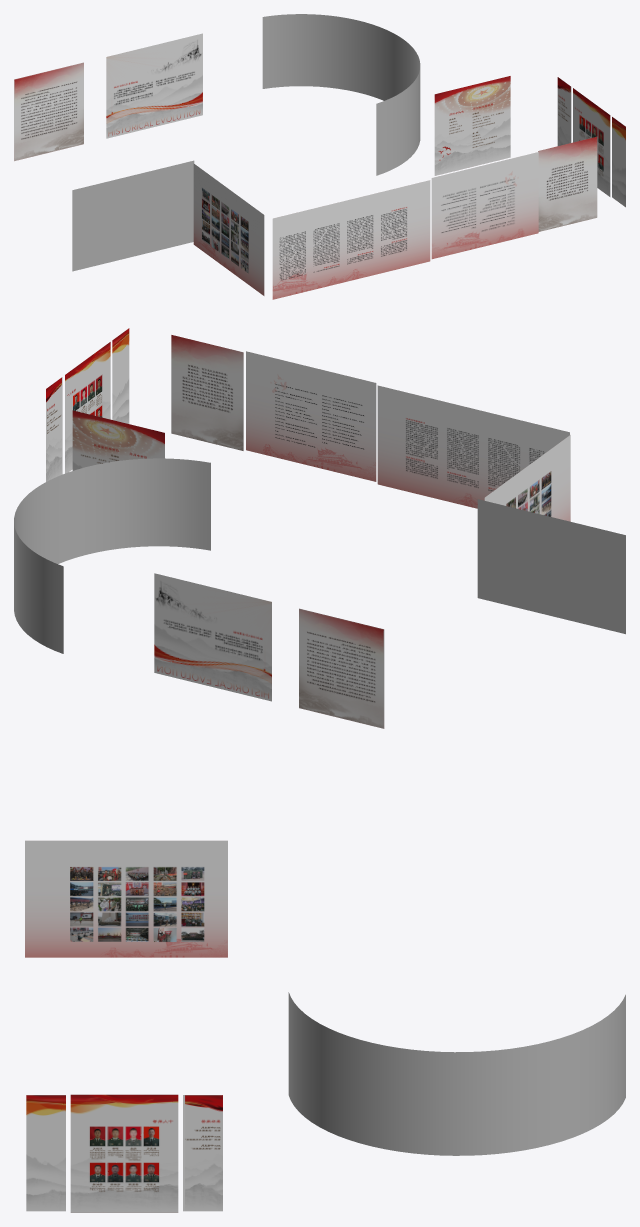
3 views of the same model, one above another, from view 1: azimuth 30°, elevation 25°; view 2: azimuth 150°, elevation 25°; view 3: azimuth 270°, elevation 25° (orthographic). The views are drawn at different scales.
Parts seen in each view (by area): view 1: 机动2中队_发展历程, 机动2中队_建设成就, 机动2中队_官兵风采, 机动2中队_重大任务, 机动2中队_历史沿革, 机动2中队_历任主官, 机动2中队_军营文化, 机动2中队_前言, 机动2中队_未来寄语, 机动2中队_历史荣誉中, 机动2中队_历史荣誉右, 机动2中队_历史荣誉左; view 2: 机动2中队_发展历程, 机动2中队_官兵风采, 机动2中队_建设成就, 机动2中队_重大任务, 机动2中队_历史沿革, 机动2中队_前言, 机动2中队_未来寄语, 机动2中队_军营文化, 机动2中队_历任主官, 机动2中队_历史荣誉中, 机动2中队_历史荣誉左, 机动2中队_历史荣誉右; view 3: 机动2中队_发展历程, 机动2中队_军营文化, 机动2中队_历史荣誉中, 机动2中队_历史荣誉右, 机动2中队_历史荣誉左.
Part boxes in pixels (box(x1,y1,x2,y2)): 机动2中队_发展历程: box(262, 14, 420, 175); 机动2中队_建设成就: box(272, 180, 430, 299); 机动2中队_官兵风采: box(72, 160, 194, 271); 机动2中队_重大任务: box(431, 152, 538, 259); 机动2中队_历史沿革: box(106, 33, 202, 138); 机动2中队_历任主官: box(434, 76, 510, 175); 机动2中队_军营文化: box(193, 163, 264, 295); 机动2中队_前言: box(14, 62, 83, 161); 机动2中队_未来寄语: box(538, 136, 597, 231); 机动2中队_历史荣誉中: box(573, 88, 610, 196); 机动2中队_历史荣誉右: box(612, 117, 625, 207); 机动2中队_历史荣誉左: box(557, 77, 571, 145); 机动2中队_发展历程: box(14, 458, 210, 653); 机动2中队_官兵风采: box(477, 499, 625, 634); 机动2中队_建设成就: box(377, 385, 569, 508); 机动2中队_重大任务: box(246, 351, 376, 481); 机动2中队_历史沿革: box(154, 573, 271, 701); 机动2中队_前言: box(299, 608, 384, 728); 机动2中队_未来寄语: box(171, 335, 243, 450); 机动2中队_军营文化: box(484, 435, 570, 521); 机动2中队_历任主官: box(72, 410, 164, 470); 机动2中队_历史荣誉中: box(65, 342, 110, 473); 机动2中队_历史荣誉左: box(46, 377, 62, 481); 机动2中队_历史荣誉右: box(112, 328, 129, 423); 机动2中队_发展历程: box(288, 992, 625, 1155); 机动2中队_军营文化: box(25, 840, 227, 957); 机动2中队_历史荣誉中: box(70, 1094, 178, 1212); 机动2中队_历史荣誉右: box(26, 1095, 65, 1211); 机动2中队_历史荣誉左: box(183, 1095, 222, 1211).
Size of the model in its own units: 1029 by 170 by 789.
